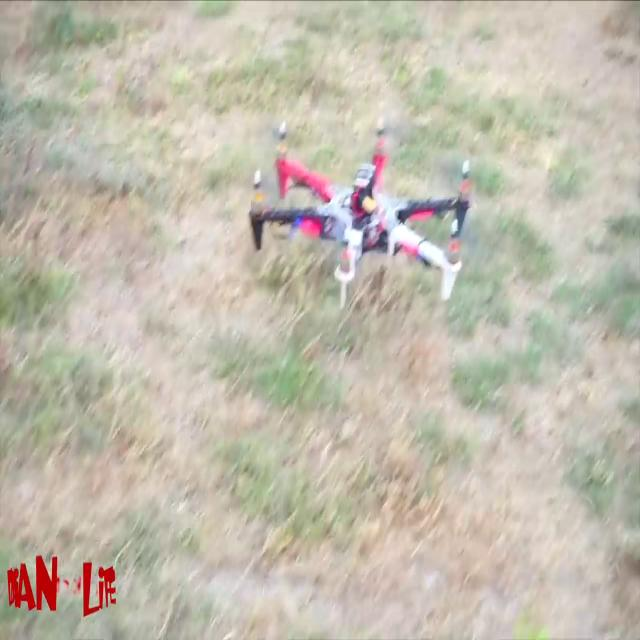drone: (208, 90, 470, 332)
